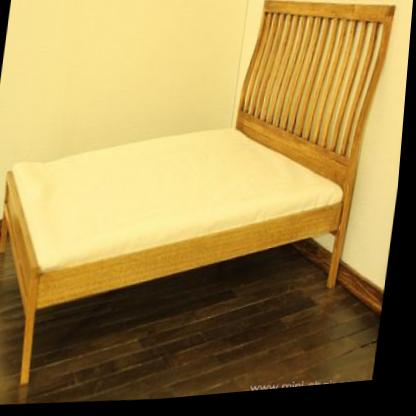Bed: (5, 4, 398, 404)
Wooden floor: (32, 286, 385, 404)
